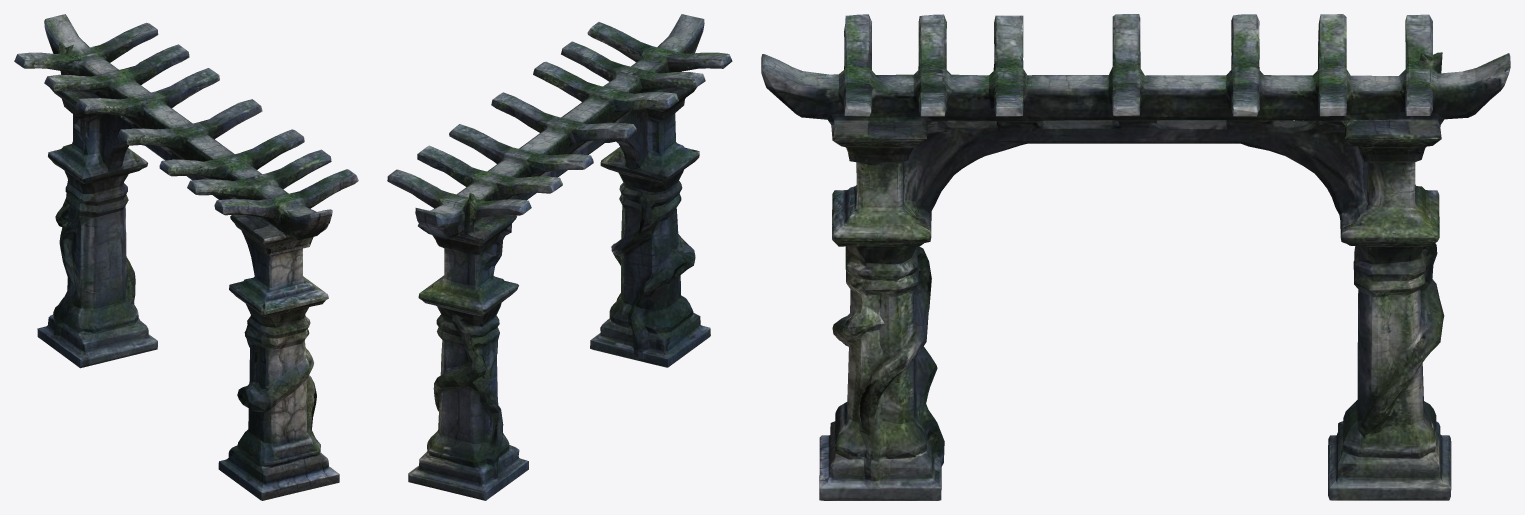
File: ruin_pergola_lod0.glb
3 renders of one model, left to right at view 1: azimuth 30°, elevation 25°; view 2: azimuth 150°, elevation 25°; view 3: azimuth 270°, elevation 25°, orthographic. The views are drawn at different scales.
Visible parts, largest first — view 1: ruin_pergola_lod0; view 2: ruin_pergola_lod0; view 3: ruin_pergola_lod0.
Boxes of the visible parts, bbox=[...] form: ruin_pergola_lod0: bbox=[14, 14, 358, 500]; ruin_pergola_lod0: bbox=[387, 14, 732, 500]; ruin_pergola_lod0: bbox=[761, 14, 1510, 500].
Size of the model in its own units: 1.92 by 3.99 by 6.5.
1 material, 1 textured.
